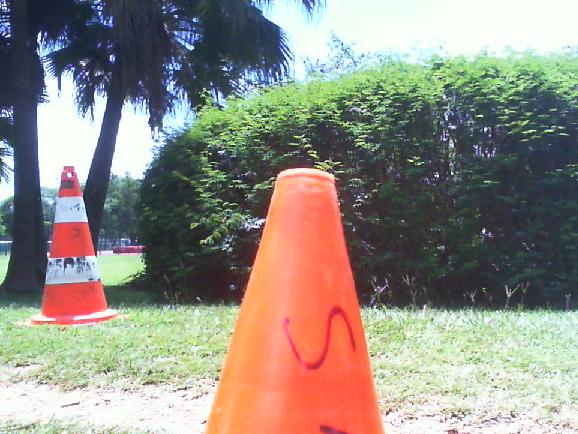0 cone: (202, 169, 387, 434), (31, 166, 119, 325)
